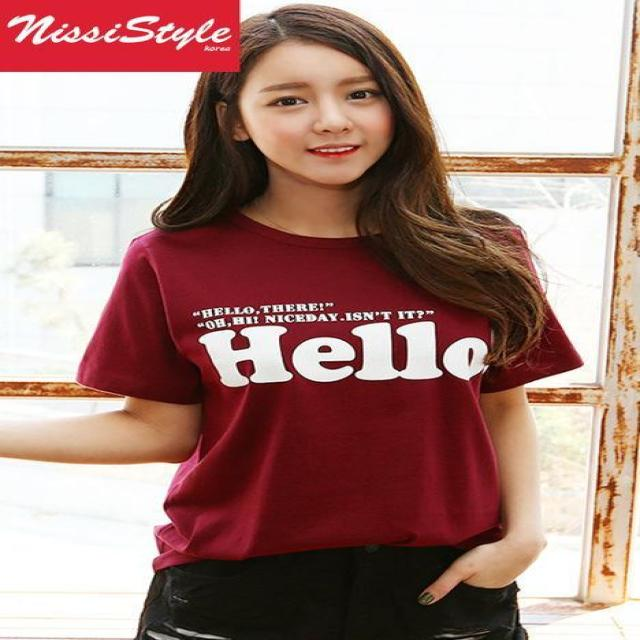short sleeve top: (79, 205, 577, 572)
shorts: (138, 519, 524, 637)
